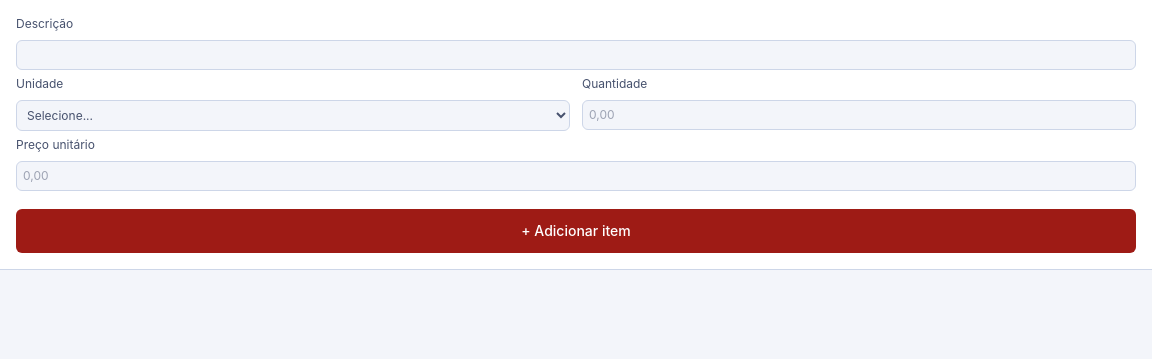
Test: Formulario › exibe mensagem de erro nos campos invalidos
The width and height of the screenshot is (1152, 359).
Step 1. Click the button "+ Adicionar item" → (576, 231), box [16,209,1136,253]
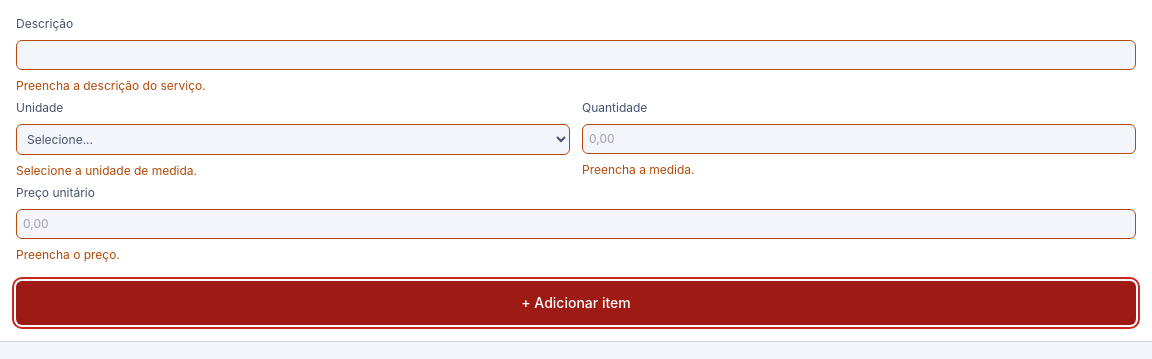
Check: the message "Preencha a descrição do serviço." is shown, box [16,78,206,93]
